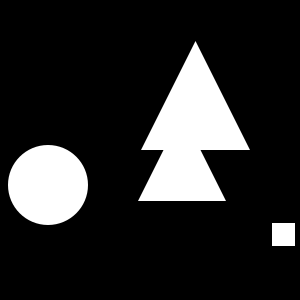circle: (272, 223, 295, 246)
rectangle: (8, 145, 88, 225)
triangle: (141, 41, 250, 150), (138, 113, 226, 201)
